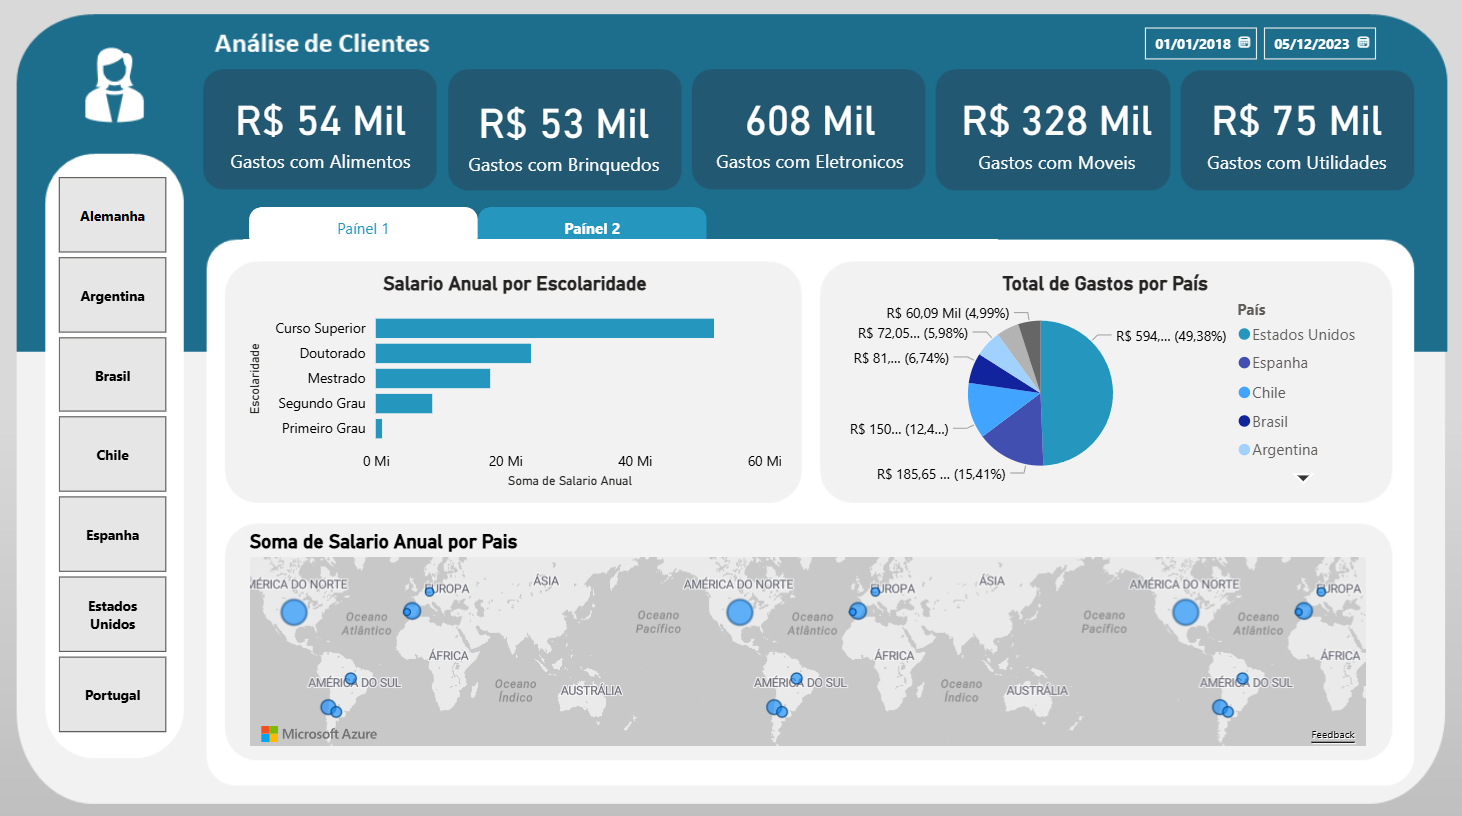

The page's visual inventory and layout, read from the dashboard file:
{"tool":"powerbi","page":{"name":"Paínel 1","canvas":[1280,720],"ordinal":0},"visuals":[{"type":"card","fields":{"Values":["Sum(dados_marketing.Gasto com Alimentos)"]},"box":[189.7,68.1,182.9,90.5],"z":0},{"type":"card","fields":{"Values":["Sum(dados_marketing.Gasto com Brinquedos)"]},"box":[388.6,58.2,209.6,114.3],"z":1000},{"type":"card","fields":{"Values":["Sum(dados_marketing.Gasto com Eletronicos)"]},"box":[613,52.9,190.6,119.6],"z":2000},{"type":"card","fields":{"Values":["Sum(dados_marketing.Gasto com Moveis)"]},"box":[812,38.1,225.5,150.3],"z":3000},{"type":"card","fields":{"Values":["Sum(dados_marketing.Gasto com Utilidades)"]},"box":[1021.7,38.1,225.5,150.3],"z":4000},{"type":"slicer","fields":{"Values":["dados_marketing.Pais"]},"box":[26.5,148.2,144,498.7],"z":5000},{"type":"barChart","title":"Salario Anual por Escolaridade","fields":{"Y":["Sum(dados_marketing.Salario Anual)"],"Category":["dados_marketing.Escolaridade"]},"box":[212.8,238.2,475.4,192.7],"z":6000},{"type":"pieChart","fields":{"Y":["Sum(dados_marketing.Total)"],"Category":["dados_marketing.Pais"]},"box":[732.6,238.2,466.9,192.7],"z":8000},{"type":"slicer","fields":{"Values":["dados_marketing.Data Cadastro"]},"box":[987.8,14.8,230.8,38.1],"z":9000},{"type":"pageNavigator","box":[218.1,182.1,400.2,37.1],"z":10000},{"type":"shape","box":[212.8,209.6,659.6,16.9],"z":11000},{"type":"azureMap","fields":{"Category":["dados_marketing.Pais"],"Size":["Sum(dados_marketing.Salario Anual)"]},"box":[214,463.9,985.3,193.6],"z":11001}]}

Visuals, with their boxes in screenshot pixels (x1, y1, x2, y2), scaled from the page's 1280x720 canvas onto the 1462x816 screenshot:
card - Sum(dados_marketing.Gasto com Alimentos): {"x1": 217, "y1": 77, "x2": 426, "y2": 180}
card - Sum(dados_marketing.Gasto com Brinquedos): {"x1": 444, "y1": 66, "x2": 683, "y2": 196}
card - Sum(dados_marketing.Gasto com Eletronicos): {"x1": 700, "y1": 60, "x2": 918, "y2": 196}
card - Sum(dados_marketing.Gasto com Moveis): {"x1": 927, "y1": 43, "x2": 1185, "y2": 214}
card - Sum(dados_marketing.Gasto com Utilidades): {"x1": 1167, "y1": 43, "x2": 1425, "y2": 214}
slicer - dados_marketing.Pais: {"x1": 30, "y1": 168, "x2": 195, "y2": 733}
"Salario Anual por Escolaridade" barChart: {"x1": 243, "y1": 270, "x2": 786, "y2": 488}
pieChart - Sum(dados_marketing.Total) x dados_marketing.Pais: {"x1": 837, "y1": 270, "x2": 1370, "y2": 488}
slicer - dados_marketing.Data Cadastro: {"x1": 1128, "y1": 17, "x2": 1392, "y2": 60}
pageNavigator: {"x1": 249, "y1": 206, "x2": 706, "y2": 248}
shape: {"x1": 243, "y1": 238, "x2": 996, "y2": 257}
azureMap - dados_marketing.Pais x Sum(dados_marketing.Salario Anual): {"x1": 244, "y1": 526, "x2": 1370, "y2": 745}
